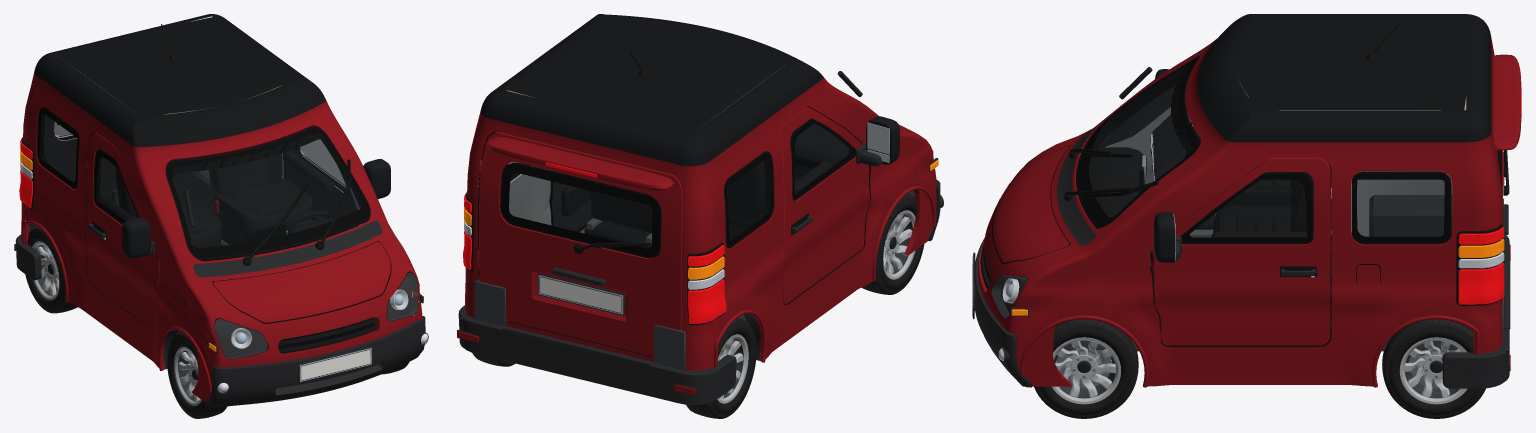
File: micro-two-seater.glb
3 views of the same model, side by side, from view 1: azimuth 30°, elevation 25°; view 2: azimuth 150°, elevation 25°; view 3: azimuth 270°, elevation 25° (orthographic). The views are drawn at different scales.
Parts seen in each view (by area): view 1: Micro_Two_Seater, Door_R, Door_L, Wheel_Front_R, Wheel_Rear_R, Tailgate; view 2: Micro_Two_Seater, Tailgate, Door_R, Wheel_Front_R, Wheel_Rear_R, Door_L; view 3: Micro_Two_Seater, Door_L, Wheel_Front_L, Wheel_Rear_L, Tailgate, Door_R.
Part boxes in pixels (<box>): Micro_Two_Seater: <box>14,14,428,407</box>; Door_R: <box>85,133,159,330</box>; Door_L: <box>283,139,390,227</box>; Wheel_Front_R: <box>167,332,227,418</box>; Wheel_Rear_R: <box>25,227,77,313</box>; Tailgate: <box>44,115,116,200</box>; Micro_Two_Seater: <box>457,14,943,405</box>; Tailgate: <box>478,132,682,356</box>; Door_R: <box>779,107,899,303</box>; Wheel_Front_R: <box>861,193,924,294</box>; Wheel_Rear_R: <box>686,317,756,418</box>; Door_L: <box>549,176,593,230</box>; Micro_Two_Seater: <box>972,14,1510,388</box>; Door_L: <box>1152,157,1330,345</box>; Wheel_Front_L: <box>1034,319,1138,418</box>; Wheel_Rear_L: <box>1382,319,1485,418</box>; Tailgate: <box>1493,52,1521,234</box>; Door_R: <box>1152,69,1216,227</box>.
Size of the model in its own units: 1.91 by 1.9 by 2.82.
55 materials, 9 textured.
